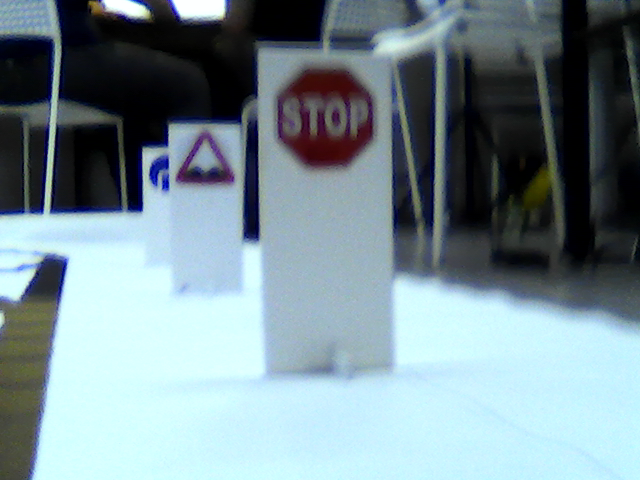Nerov: (173, 129, 240, 187)
Stop: (273, 68, 378, 165)
